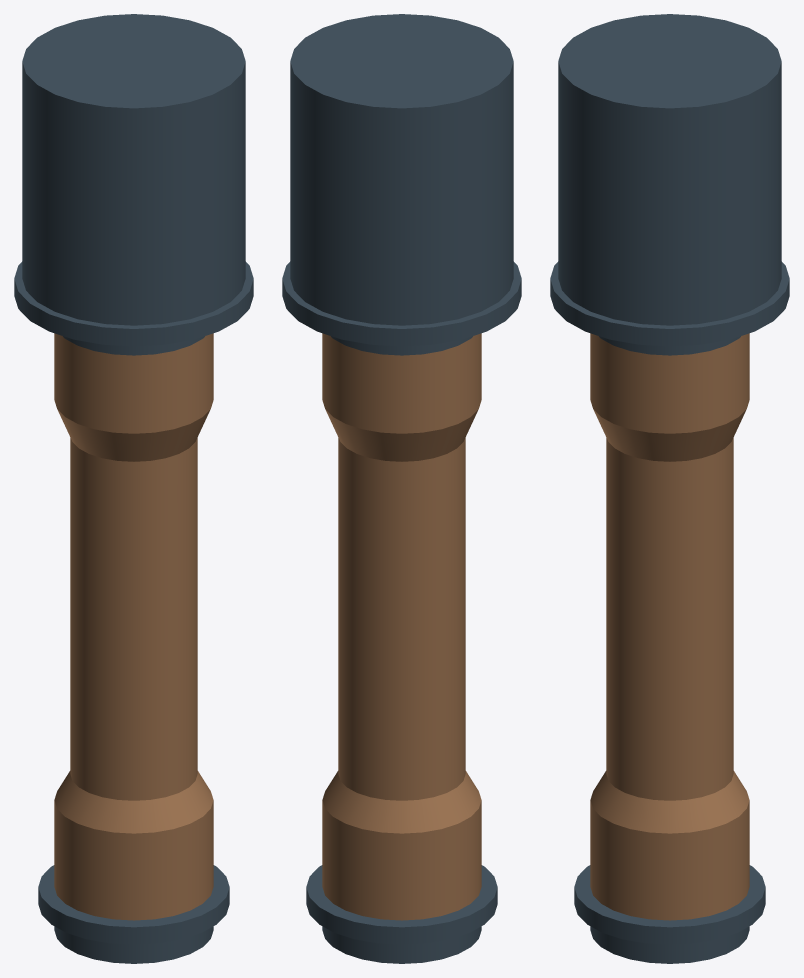
File: grenadeVintage.dae
The picture shows the model from 3 angles, left to right: view 1: azimuth 30°, elevation 25°; view 2: azimuth 150°, elevation 25°; view 3: azimuth 270°, elevation 25°; orthographic projection.
Parts seen in each view (by area): view 1: grenadeVintage; view 2: grenadeVintage; view 3: grenadeVintage.
Part boxes in pixels (x1=…): grenadeVintage: x1=14, y1=14, x2=253, y2=963; grenadeVintage: x1=282, y1=14, x2=521, y2=963; grenadeVintage: x1=550, y1=14, x2=789, y2=963.
Bounding box in the file's own units: 0.0956 × 0.3828 × 0.0956.
